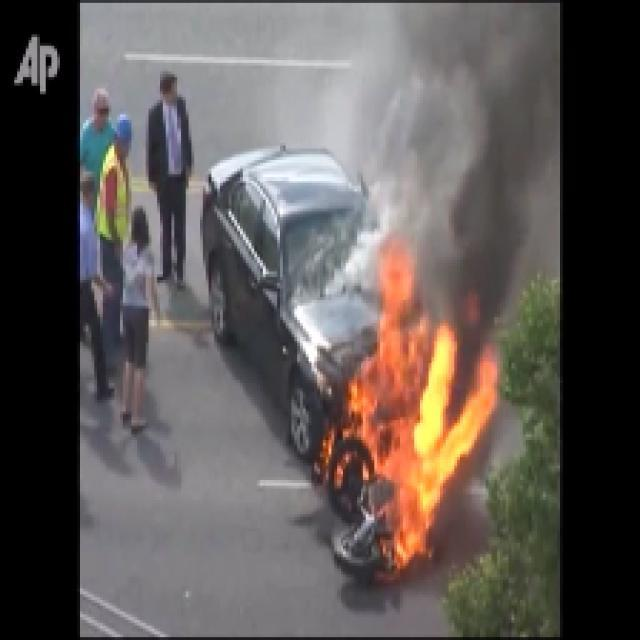Fire: (366, 312, 478, 558)
Smoke: (396, 3, 544, 298)
